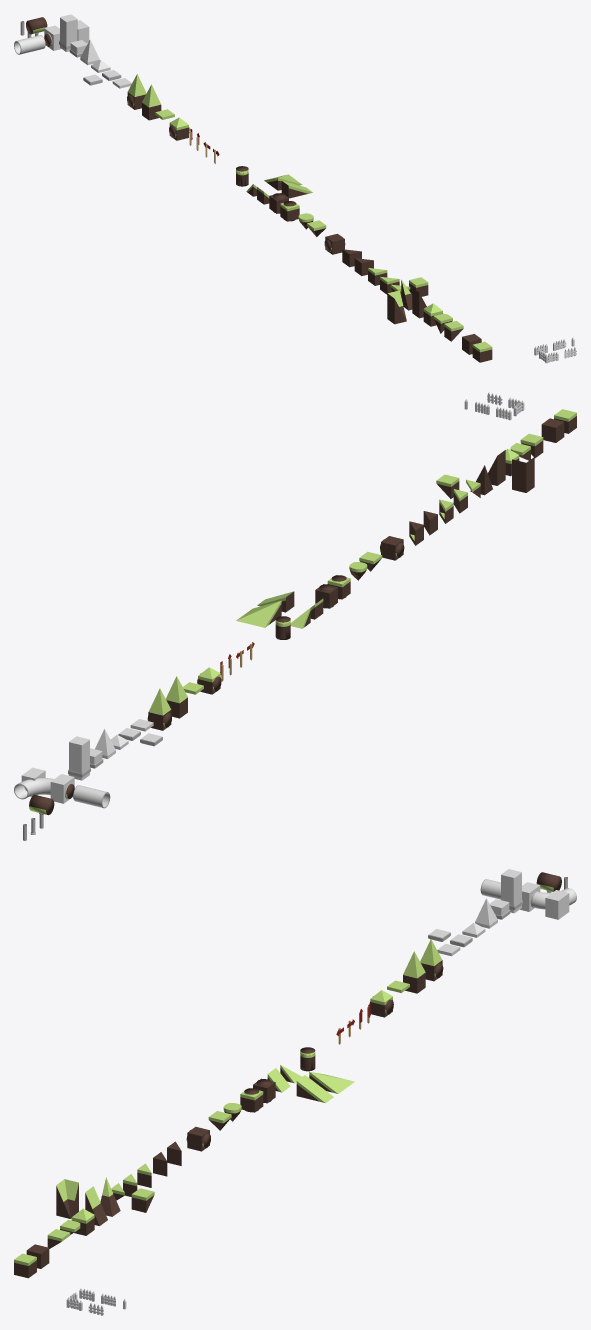
Rendered from Tiles 09.gltf.
3 renders of one model, top to bottom at view 1: azimuth 30°, elevation 25°; view 2: azimuth 150°, elevation 25°; view 3: azimuth 330°, elevation 25°, orthographic. The views are drawn at different scales.
Parts seen in each view (by area): view 1: Hole 4 -noimp, 22 Ground Spike Tall -col, 24 Pipe I long -col; view 2: Hole 4 -noimp, 19b Ground Slope2 Corner -col, 24 Pipe I long -col, 24 Pipe L -col, 22 Ground Spike Tall -col, 22 Ground Spike Tall Hollow -col; view 3: Hole 4 -noimp, 22 Ground Spike Tall -col, Cube -noimp.001, 19 Ground Slope2 -col, 18 Wall Slanted Concave Corner -col.
Boxes of the visible parts, x1,y1,x2,y2 form: Hole 4 -noimp: [60, 14, 77, 51]; 22 Ground Spike Tall -col: [142, 84, 161, 120]; 24 Pipe I long -col: [14, 35, 45, 54]; Hole 4 -noimp: [69, 736, 89, 780]; 19b Ground Slope2 Corner -col: [236, 600, 281, 627]; 24 Pipe I long -col: [73, 785, 110, 808]; 24 Pipe L -col: [14, 778, 53, 799]; 22 Ground Spike Tall -col: [166, 676, 187, 718]; 22 Ground Spike Tall Hollow -col: [148, 688, 171, 730]; Hole 4 -noimp: [501, 869, 521, 913]; 22 Ground Spike Tall -col: [403, 951, 425, 993]; Cube -noimp.001: [545, 890, 569, 919]; 19 Ground Slope2 -col: [296, 1075, 333, 1103]; 18 Wall Slanted Concave Corner -col: [56, 1179, 78, 1218].
Size of what is drawn, in the model's own units: 20.31 by 7.81 by 133.
